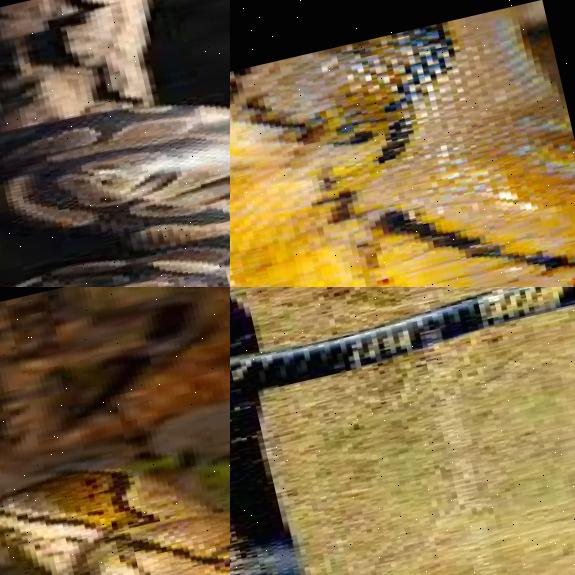3: (230, 0, 575, 287), (0, 287, 230, 575)
5: (230, 287, 575, 441)
snake: (0, 0, 230, 287)
